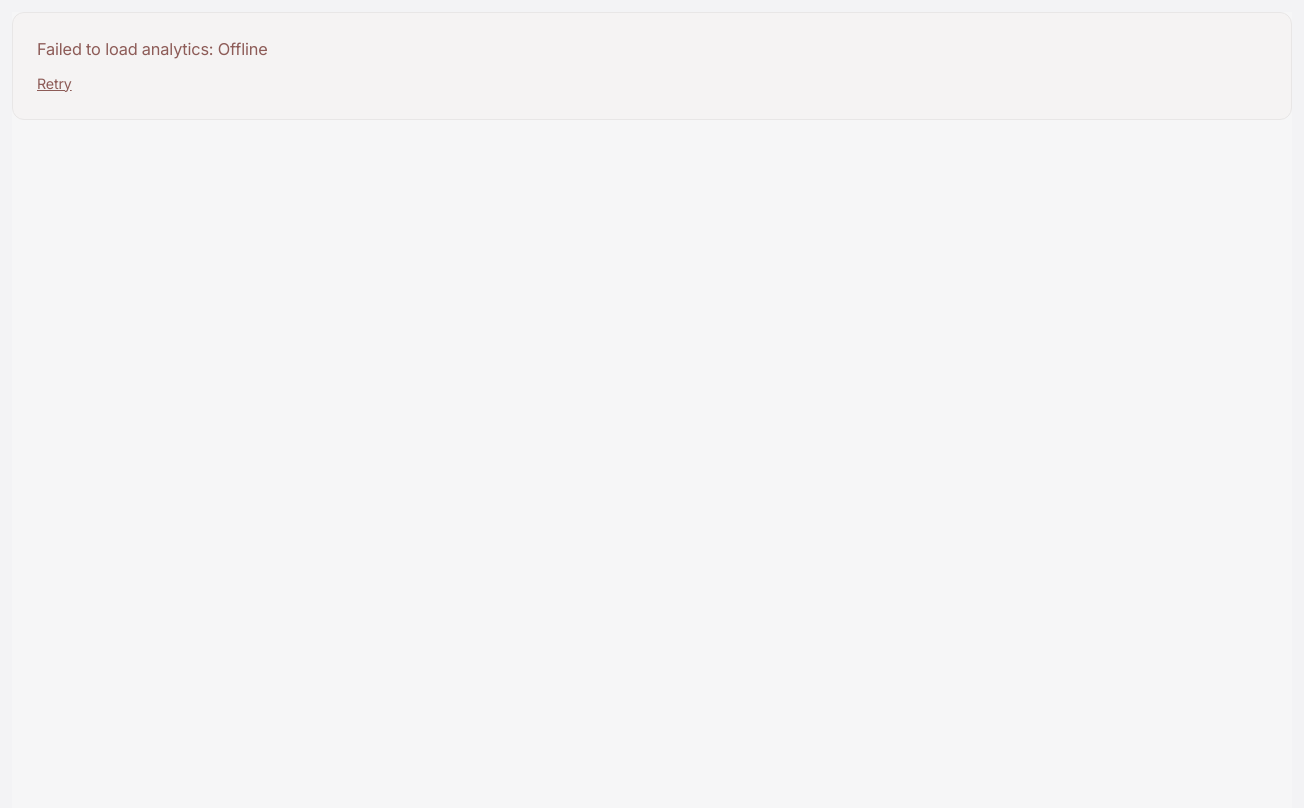
Test: admin analytics feedback › announces loading, exposes an error and retries the same reads
Later steps or results of the test are not shown.
Expected: the message shows "Offline", x1=218 y1=39 x2=268 y2=59
Click the button "Retry". click: (54, 83)
box: x1=37 y1=71 x2=72 y2=95
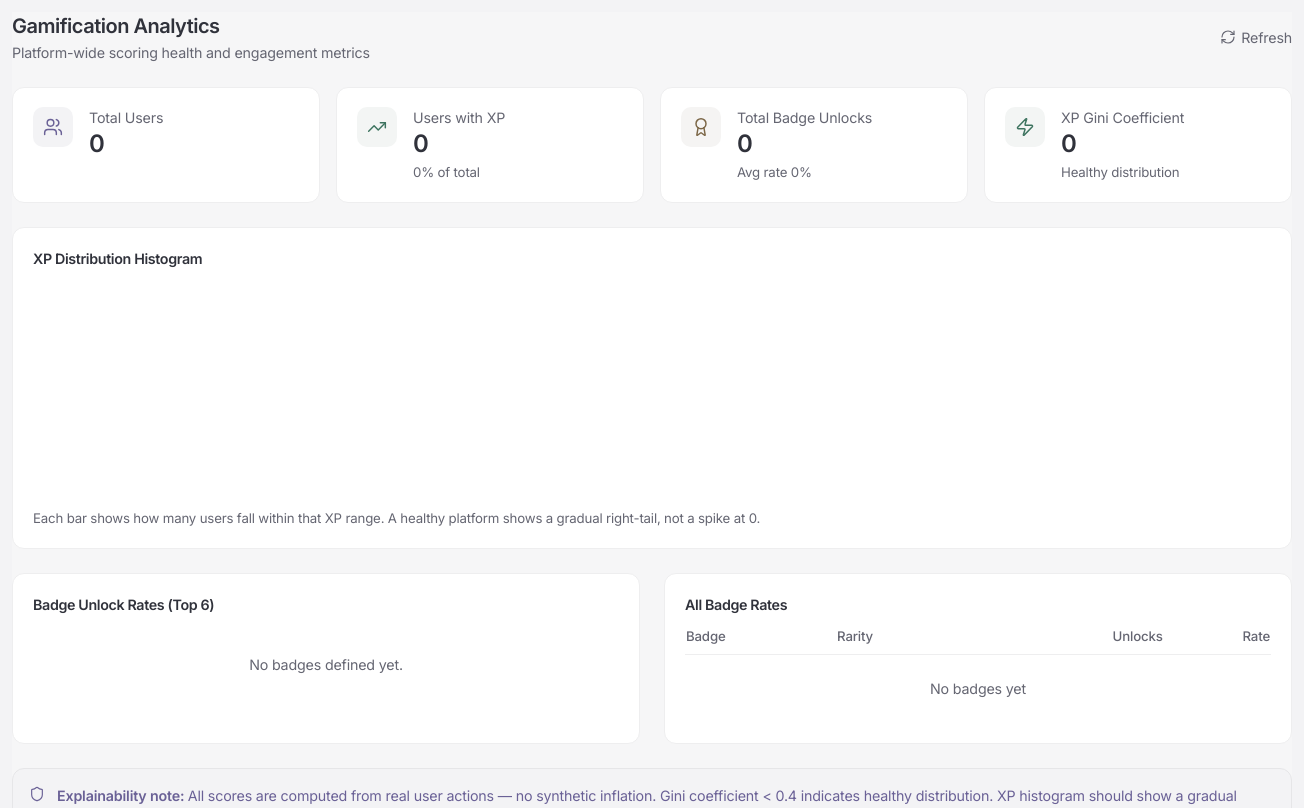
Expected: the button "Refresh" is shown, x1=1220 y1=25 x2=1292 y2=49
